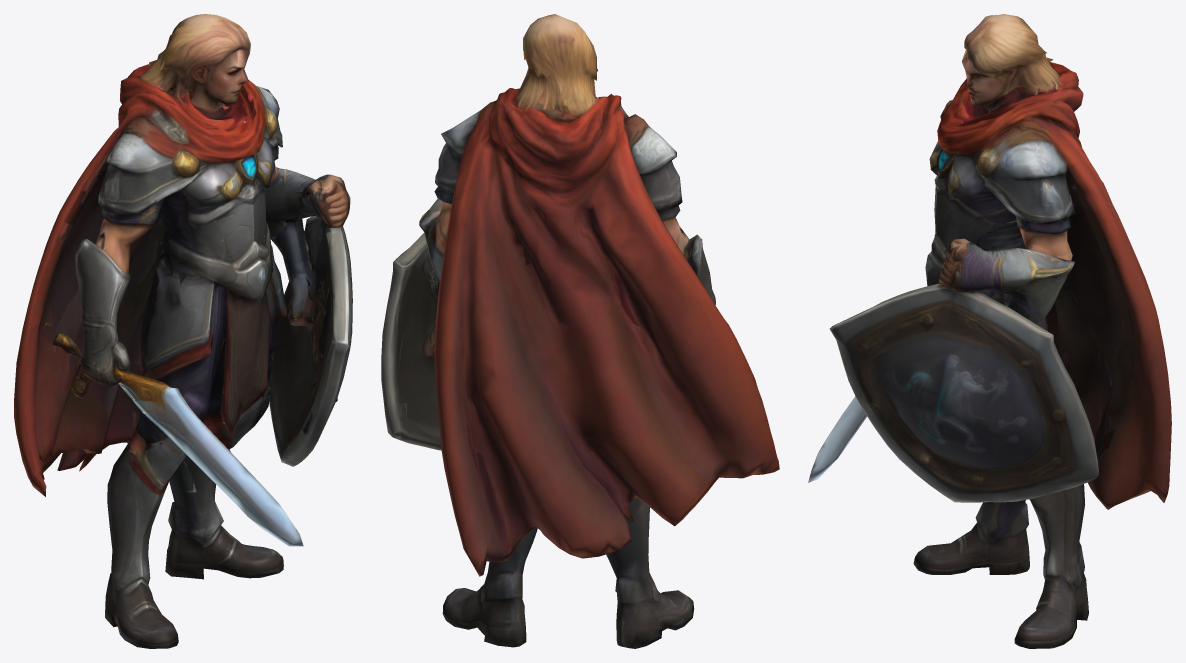
File: Game_Character_Asset_V1.1.glb
The picture shows the model from 3 angles, left to right: view 1: azimuth 30°, elevation 25°; view 2: azimuth 150°, elevation 25°; view 3: azimuth 270°, elevation 25°; orthographic projection. The views are drawn at different scales.
Bounding box in the file's own units: 1.2 × 2 × 1.12.
Materials: 1 (1 with a texture image).
